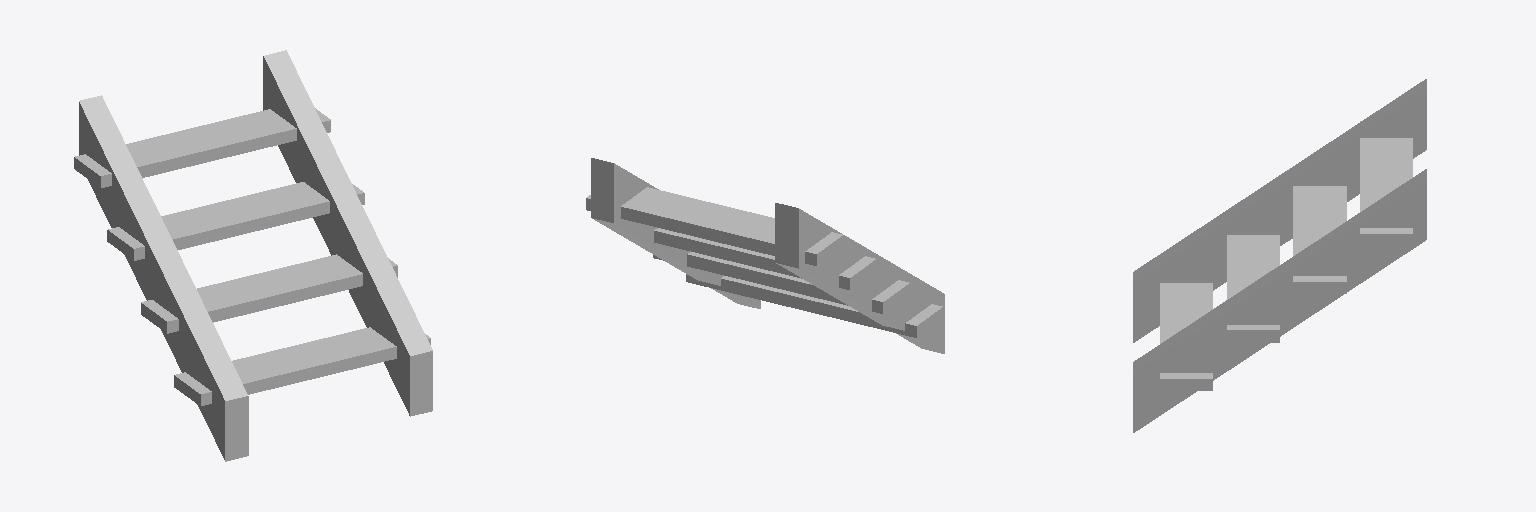
Rendered from scaffold_stairs.obj.
3 renders of one model, left to right at view 1: azimuth 30°, elevation 25°; view 2: azimuth 150°, elevation 25°; view 3: azimuth 270°, elevation 25°, orthographic.
Visible parts, largest first — view 1: scaffold_stairs_Cube.4151; view 2: scaffold_stairs_Cube.4151; view 3: scaffold_stairs_Cube.4151.
Boxes of the visible parts, x1=… form: scaffold_stairs_Cube.4151: x1=74, y1=50, x2=432, y2=461; scaffold_stairs_Cube.4151: x1=586, y1=158, x2=944, y2=353; scaffold_stairs_Cube.4151: x1=1133, y1=79, x2=1426, y2=432.
Bounding box in the file's own units: 2 × 2.1 × 2.2.